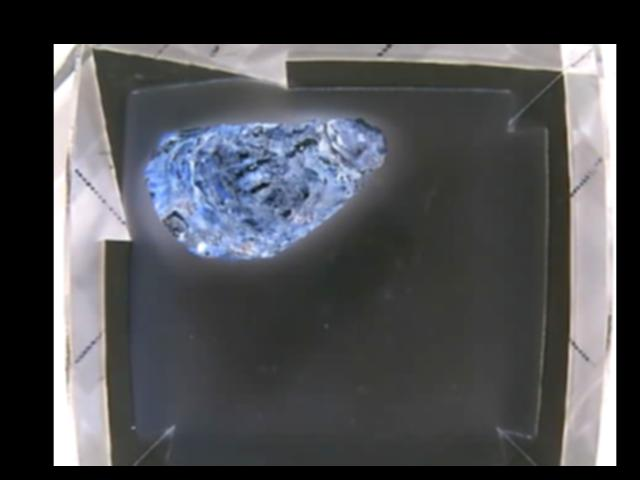Shell: (145, 116, 387, 261)
